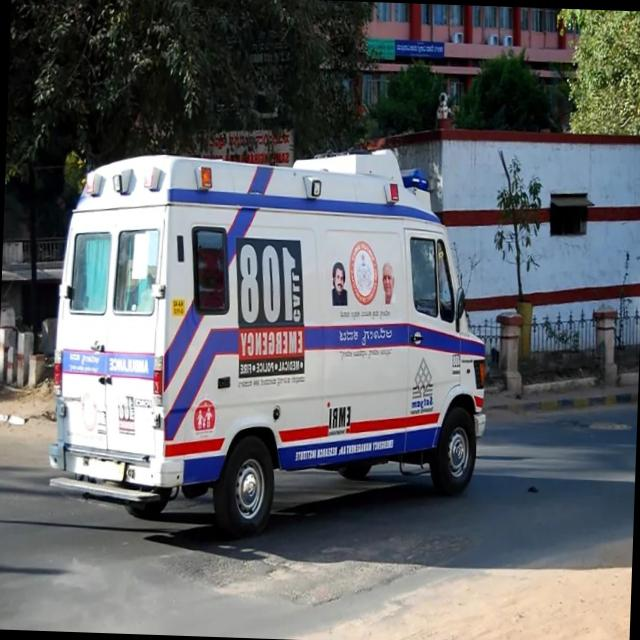ambulance: (51, 135, 496, 502)
